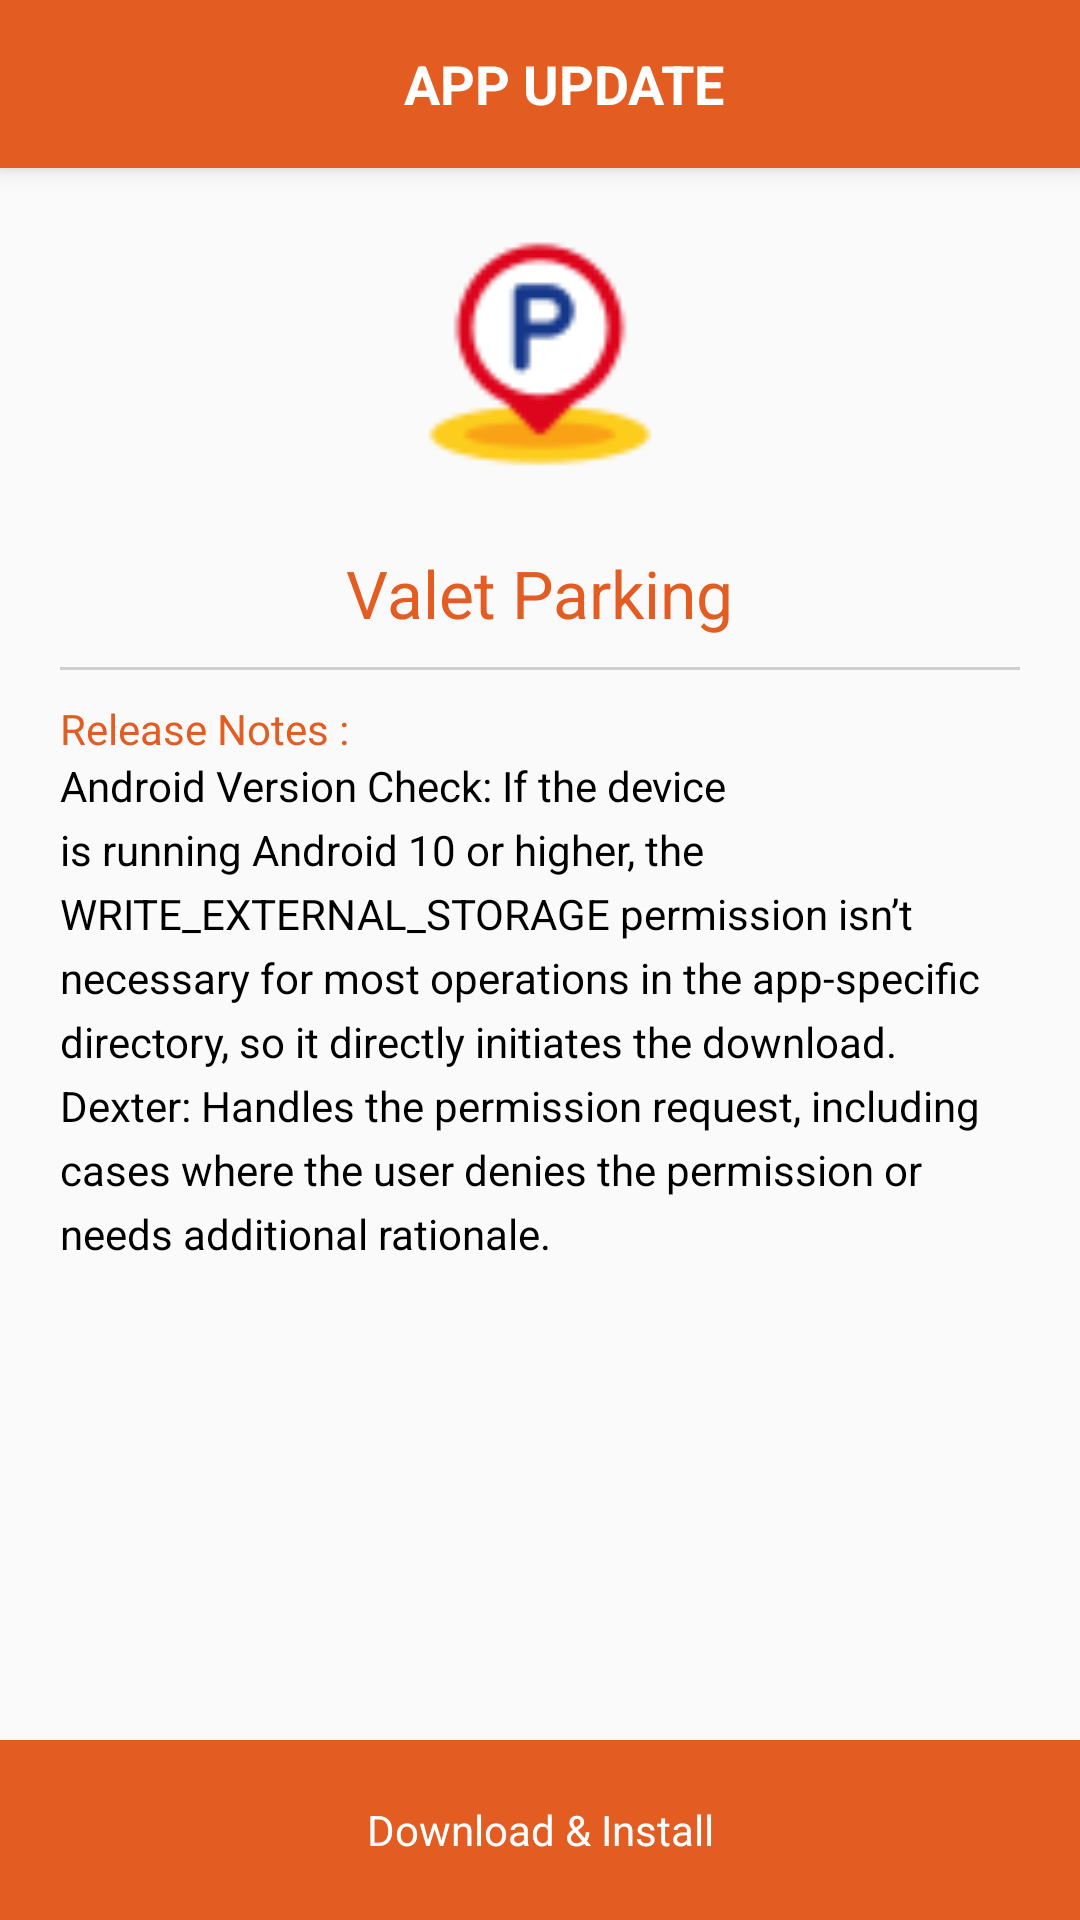

Where to tap for icons on this 1080px x 1920px app screen, as point (x, y):
parkingcar: point (540, 354)
